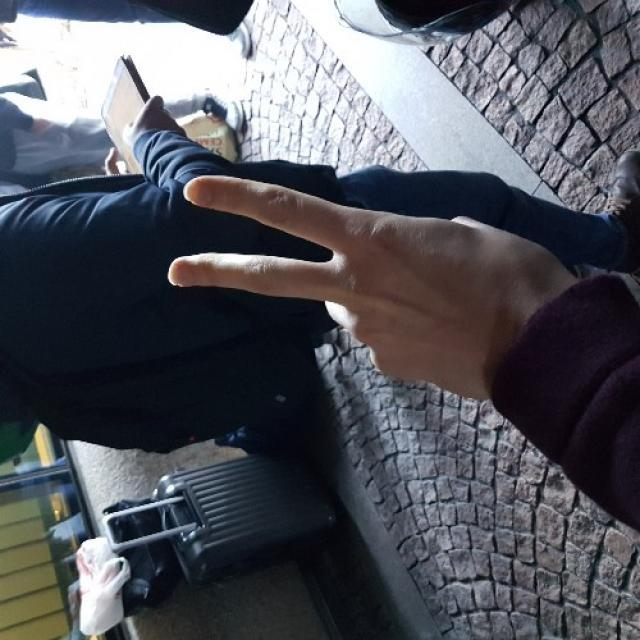scissors: (168, 174, 502, 356)
